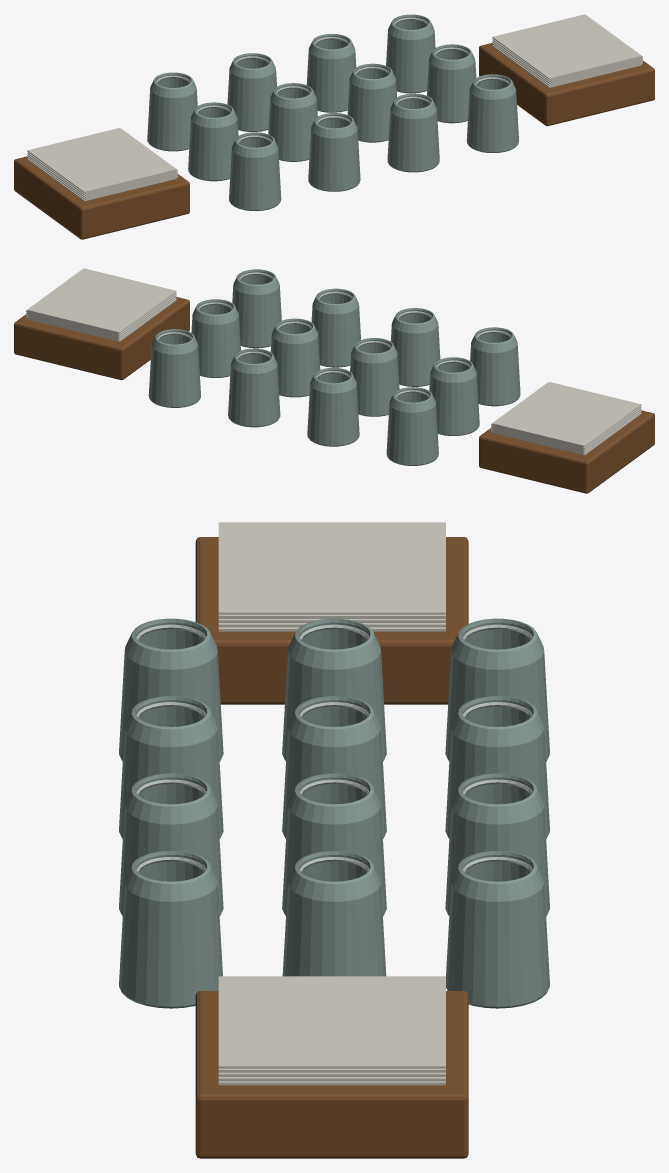
File: cups.glb
The picture shows the model from 3 angles, top to bottom: view 1: azimuth 30°, elevation 25°; view 2: azimuth 150°, elevation 25°; view 3: azimuth 270°, elevation 25°; orthographic projection. The views are drawn at different scales.
Parts seen in each view (by area): view 1: cups; view 2: cups; view 3: cups.
Boxes of the visible parts, box(x1,y1,x2,y2) form: cups: box(14, 14, 654, 239); cups: box(14, 268, 654, 493); cups: box(119, 522, 549, 1158).
Size of the model in its own units: 1.14 by 0.122 by 0.3698.
